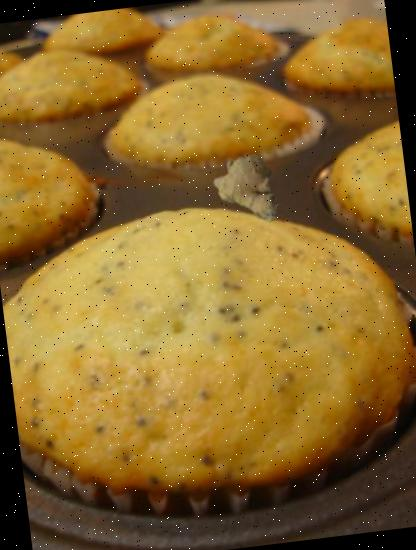Ginger: (208, 150, 292, 234)
